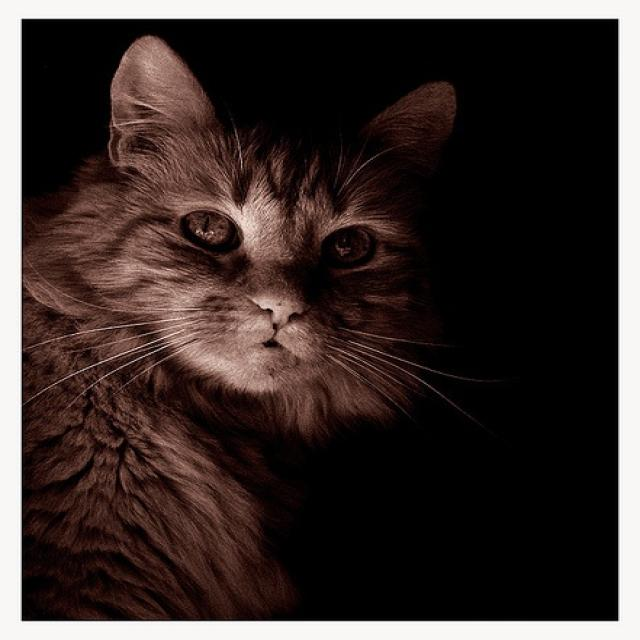cat: (22, 36, 498, 619)
